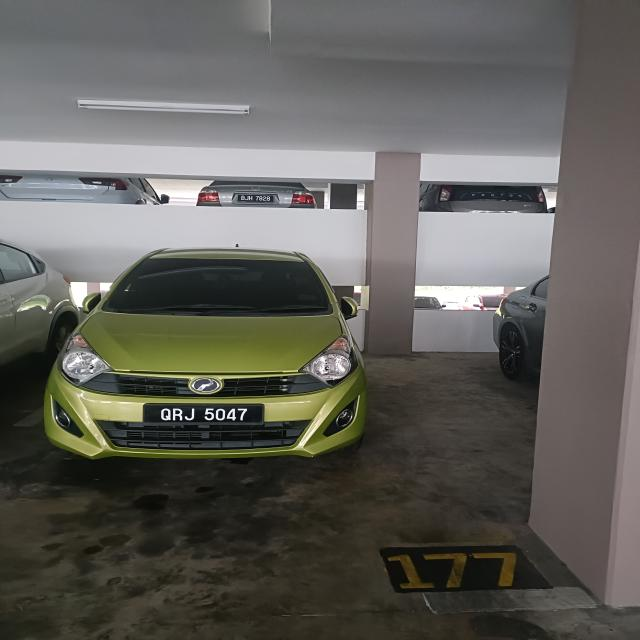PeroduaAxia: (42, 246, 369, 461)
